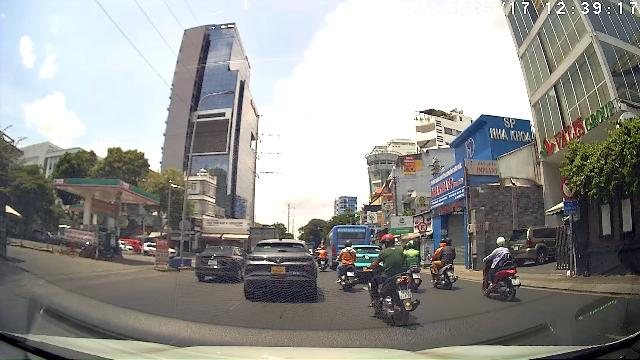123b-cam-re-phai: (418, 222, 428, 232)
